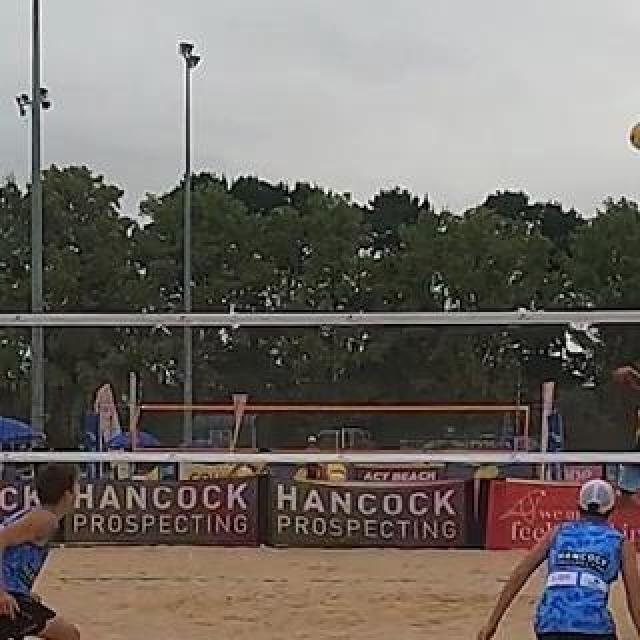volleyball: (629, 121, 639, 151)
